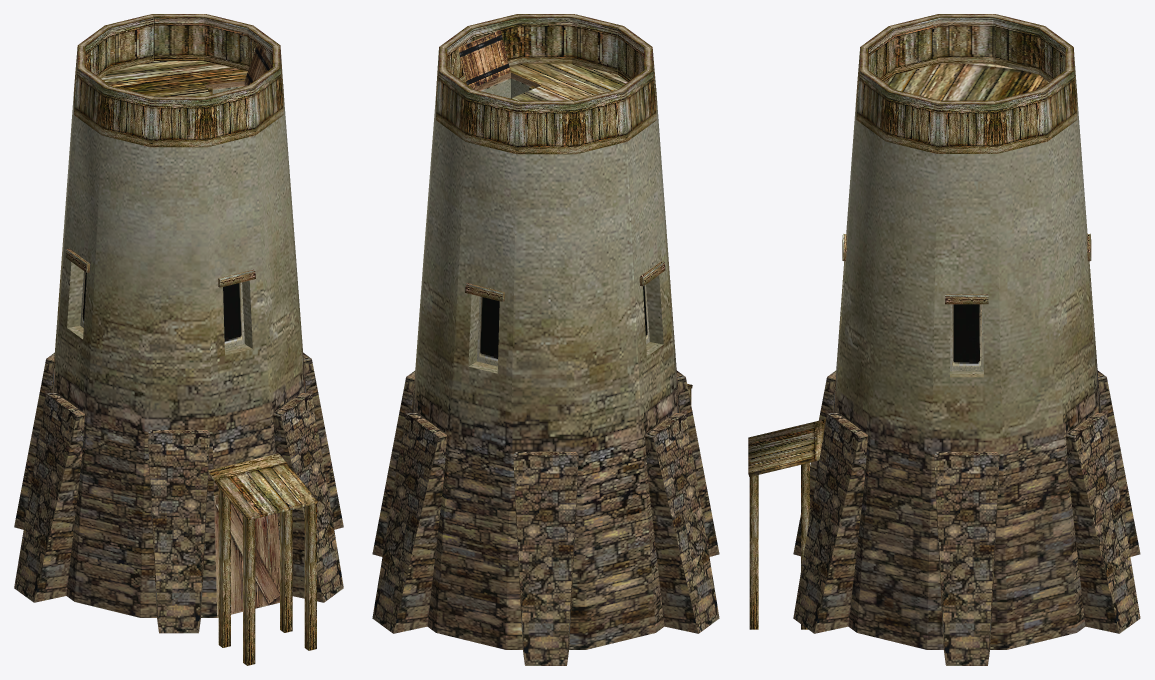
Rendered from iber_scout_tower.dae.
3 renders of one model, left to right at view 1: azimuth 30°, elevation 25°; view 2: azimuth 150°, elevation 25°; view 3: azimuth 270°, elevation 25°, orthographic. The views are drawn at different scales.
Parts seen in each view (by area): view 1: default; view 2: default; view 3: default.
Boxes of the visible parts, left/top/right/bottom form: default: left=14, top=14, right=343, bottom=665; default: left=372, top=14, right=719, bottom=665; default: left=748, top=14, right=1140, bottom=665.
Size of the model in its own units: 13.48 by 21.82 by 14.03.
